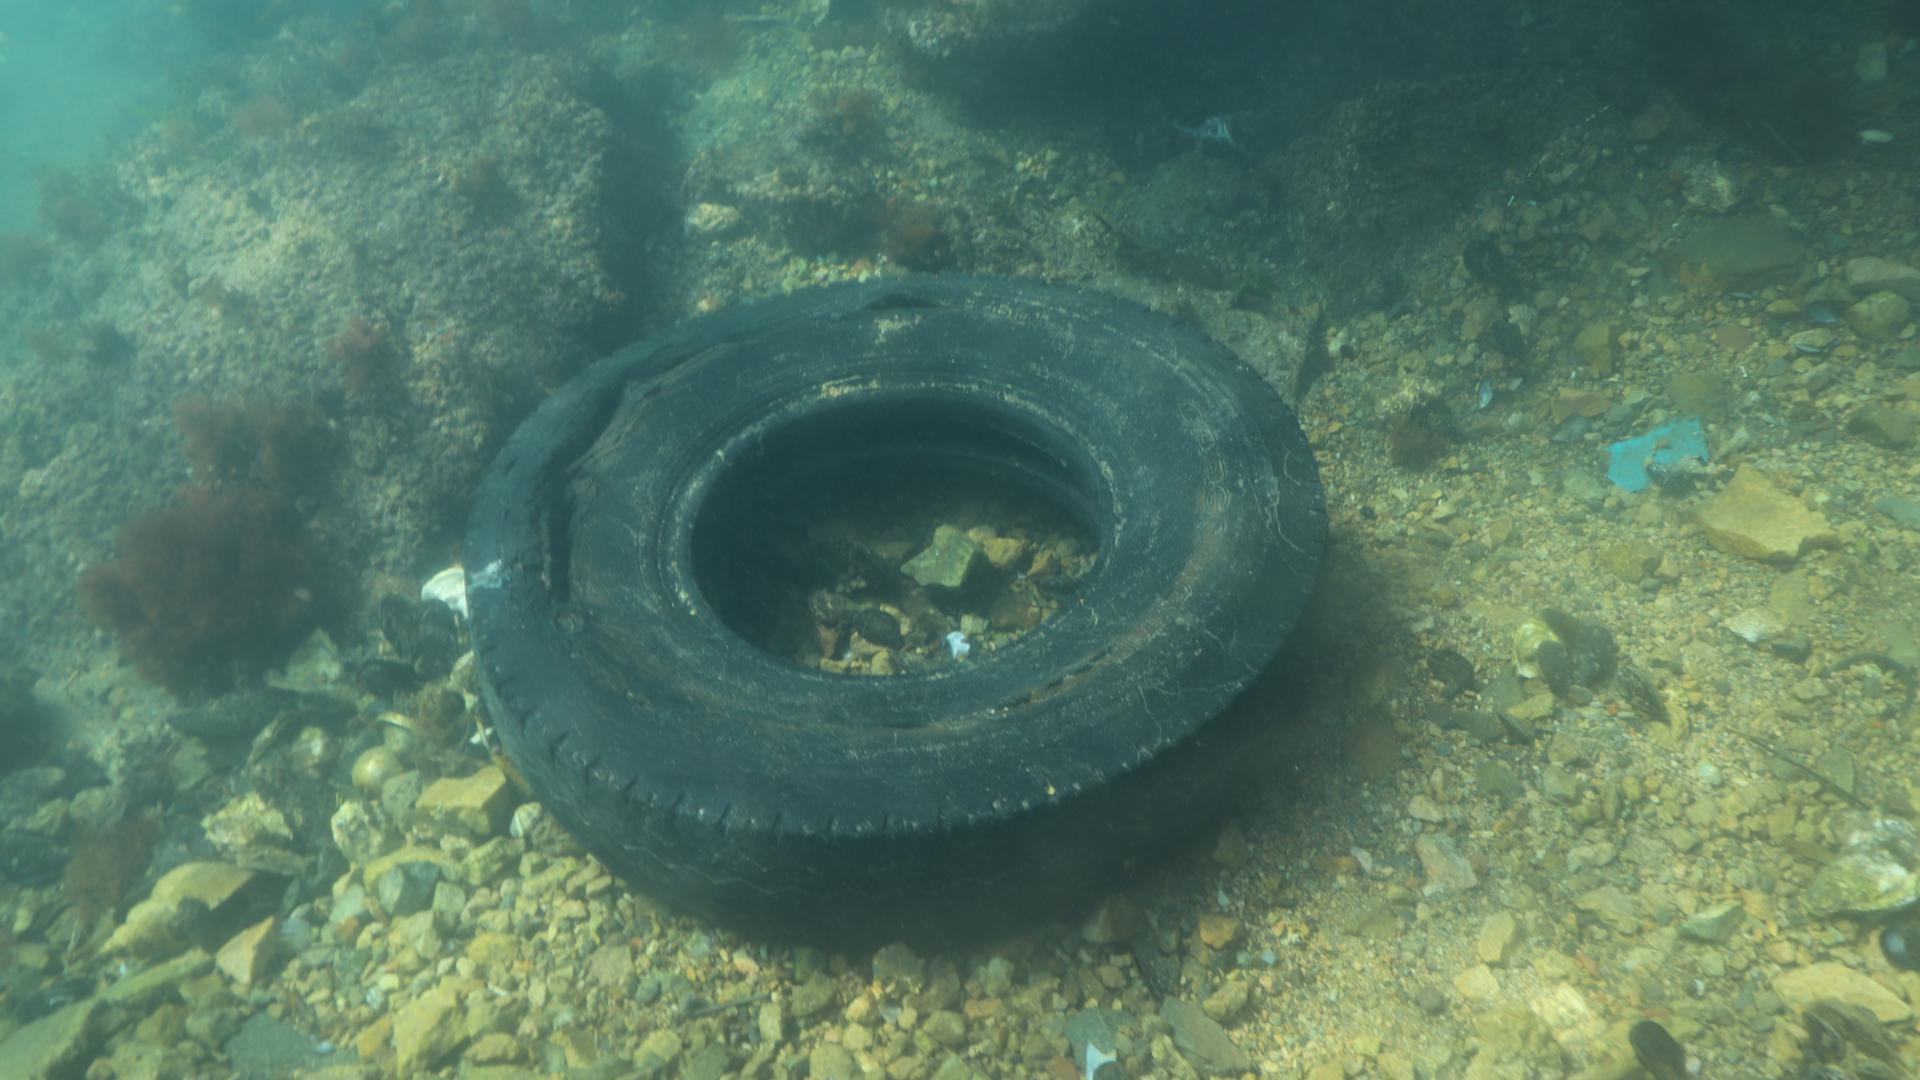tire: (458, 270, 1329, 951)
